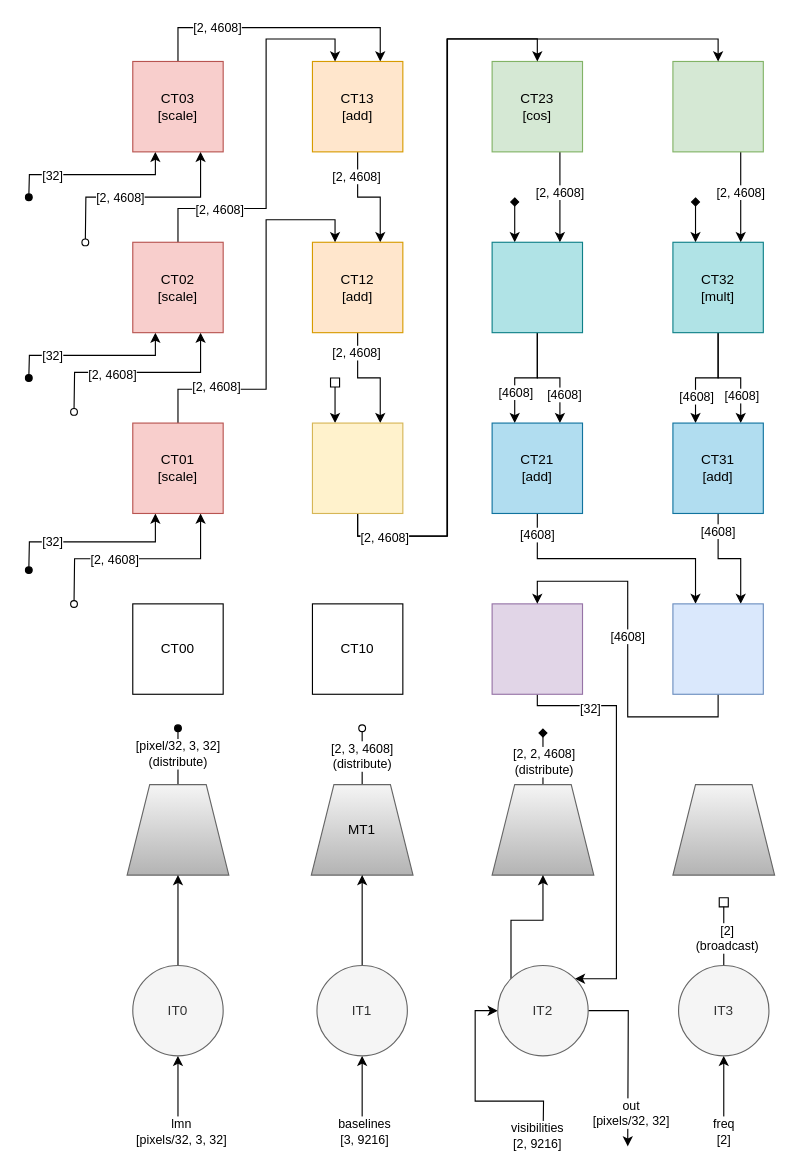
Some shapes in this 794 by 1175 pixel diagram are drawn without their labels. The centre of each missing label's shape, as x and y in pixels:
CT11 [scale]: the point at 357,467
CT20 [mean]: the point at 537,648
CT22 [mult]: the point at 537,287
CT30 [sub]: the point at 717,648
CT33 [sin]: the point at 717,106
MT0: the point at 177,829
MT2: the point at 542,829
MT3: the point at 723,829
